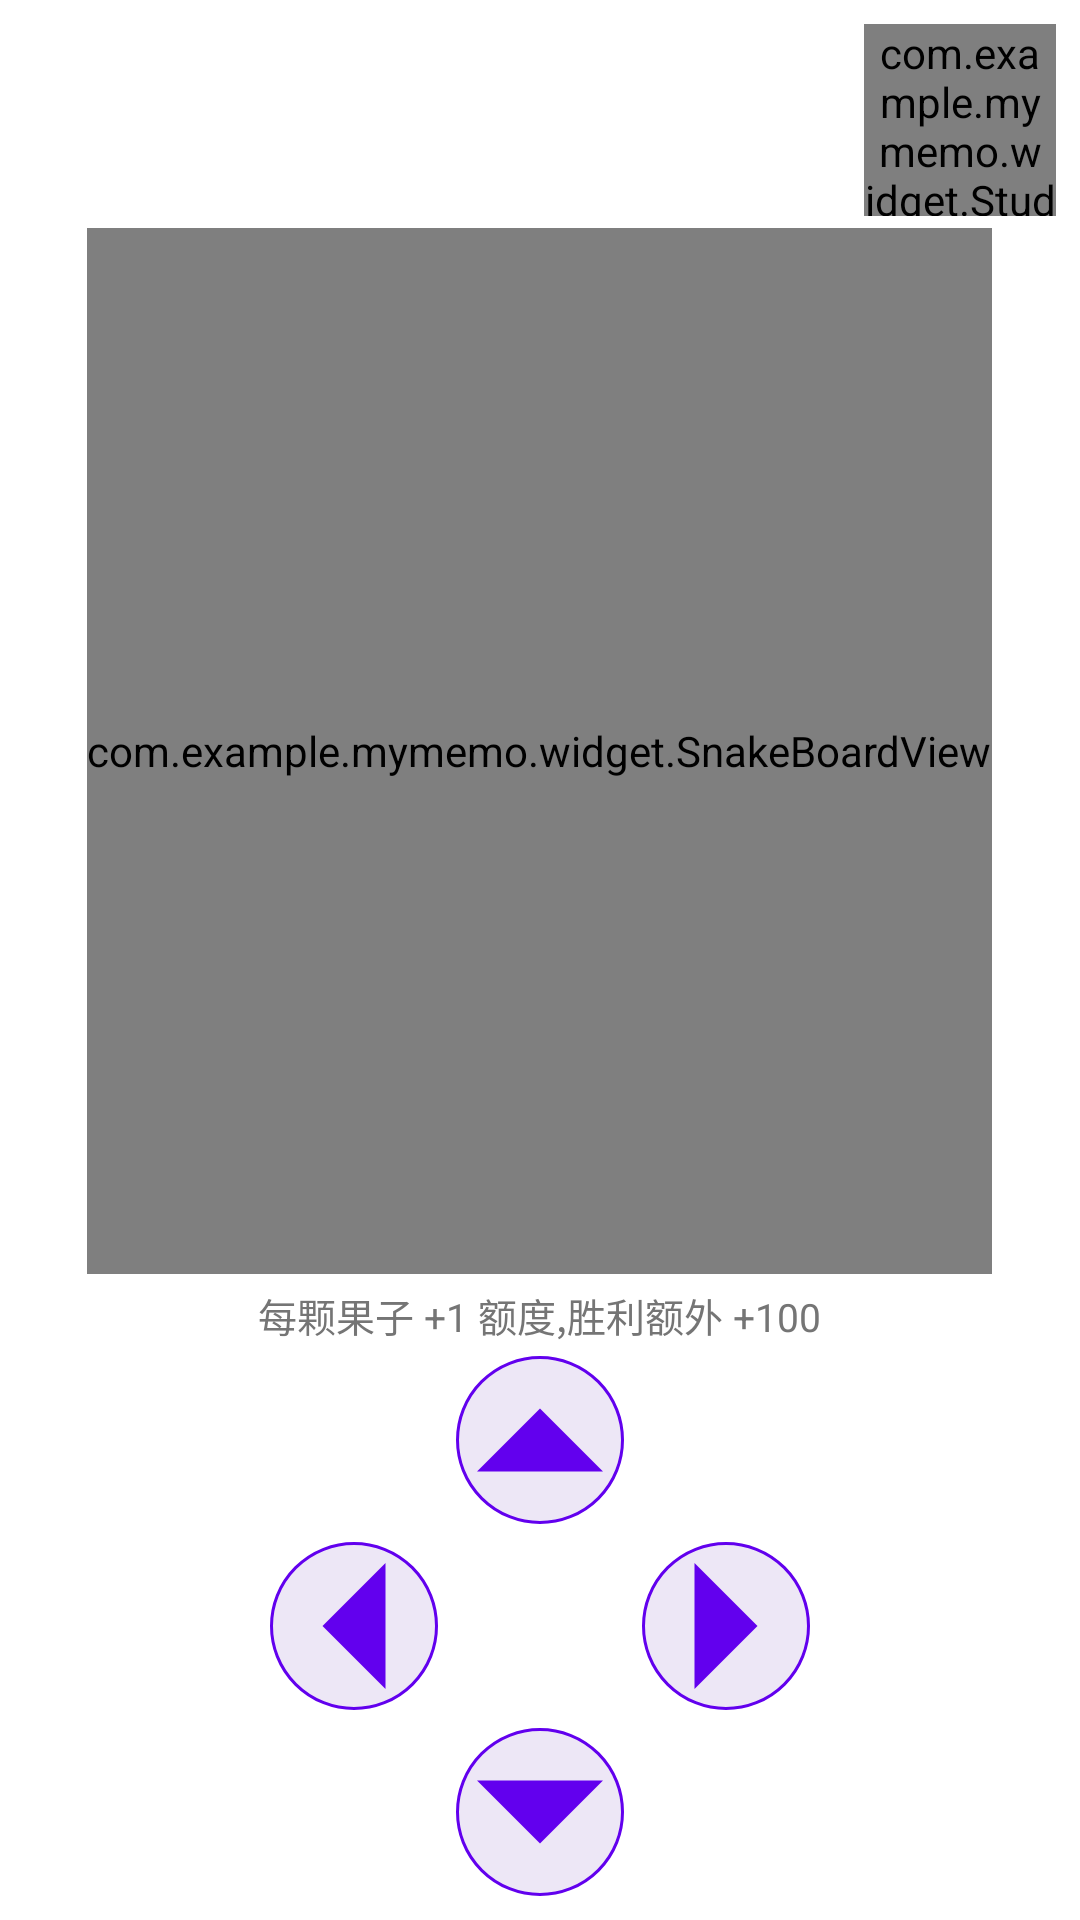

Point at icon controls on the screen. Image size 1080 × 1920, points as point (x, y).
向上: point (540, 1440)
